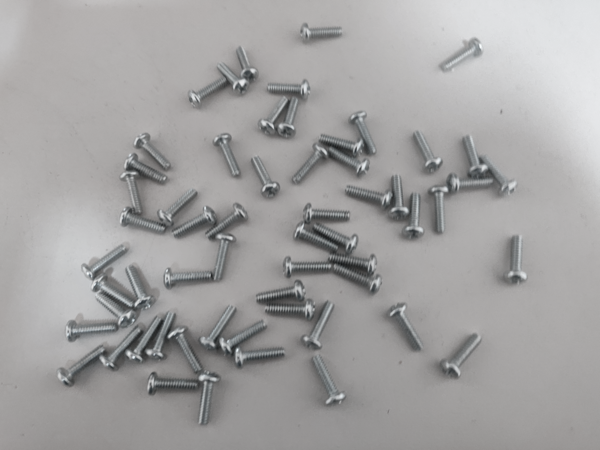shortscrew: (440, 332, 483, 381), (56, 346, 105, 388), (99, 327, 143, 372), (387, 302, 425, 352), (125, 315, 163, 364), (312, 355, 347, 408), (301, 299, 335, 351), (167, 325, 203, 374), (200, 304, 237, 351), (219, 320, 267, 356), (81, 245, 128, 280), (480, 154, 518, 197), (292, 143, 330, 186), (144, 311, 177, 360), (158, 188, 199, 227), (205, 203, 248, 240), (441, 37, 485, 73), (171, 206, 218, 239), (332, 264, 383, 294), (133, 131, 171, 171), (312, 224, 359, 256), (293, 223, 339, 254), (91, 274, 134, 307), (327, 146, 371, 178), (96, 293, 136, 328), (119, 207, 167, 236), (126, 264, 155, 312), (412, 130, 443, 173), (349, 110, 378, 155), (255, 279, 307, 304), (212, 134, 241, 178), (125, 154, 169, 183), (258, 96, 289, 137), (189, 78, 231, 108), (252, 155, 281, 198), (212, 233, 237, 281), (66, 320, 118, 343), (147, 373, 199, 396), (199, 373, 221, 426), (402, 192, 426, 240), (463, 135, 489, 179), (283, 256, 332, 279), (265, 299, 316, 321), (345, 186, 393, 209), (319, 134, 365, 158), (505, 235, 527, 285), (164, 268, 212, 290), (217, 62, 248, 96), (235, 347, 285, 368), (303, 203, 352, 224), (119, 171, 142, 215), (328, 255, 378, 275), (429, 186, 450, 233), (300, 21, 344, 43), (267, 79, 311, 101), (277, 97, 300, 139), (445, 173, 494, 192), (390, 175, 410, 221), (235, 46, 259, 82)
